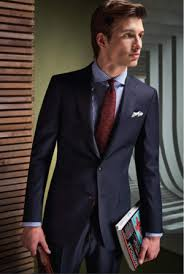F_M_suit jacket: (19, 59, 169, 258)
F_tie: (95, 75, 118, 165)
